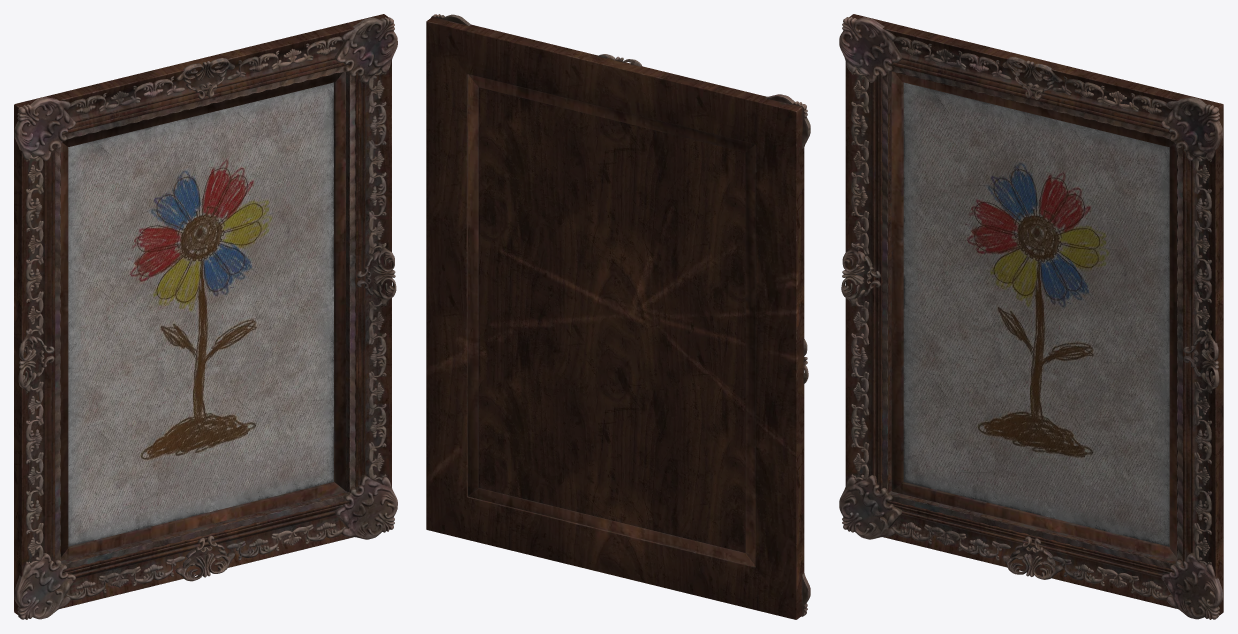
Rendered from frame.glb.
3 renders of one model, left to right at view 1: azimuth 30°, elevation 25°; view 2: azimuth 150°, elevation 25°; view 3: azimuth 330°, elevation 25°, orthographic.
Visible parts, largest first — view 1: MyGeo; view 2: MyGeo; view 3: MyGeo.
Boxes of the visible parts, x1,y1,x2,y2 form: MyGeo: (14, 14, 397, 619); MyGeo: (426, 14, 810, 619); MyGeo: (839, 14, 1223, 619).
Bounding box in the file's own units: 0.7627 × 0.9928 × 0.0343.
Materials: 2 (2 with a texture image).
